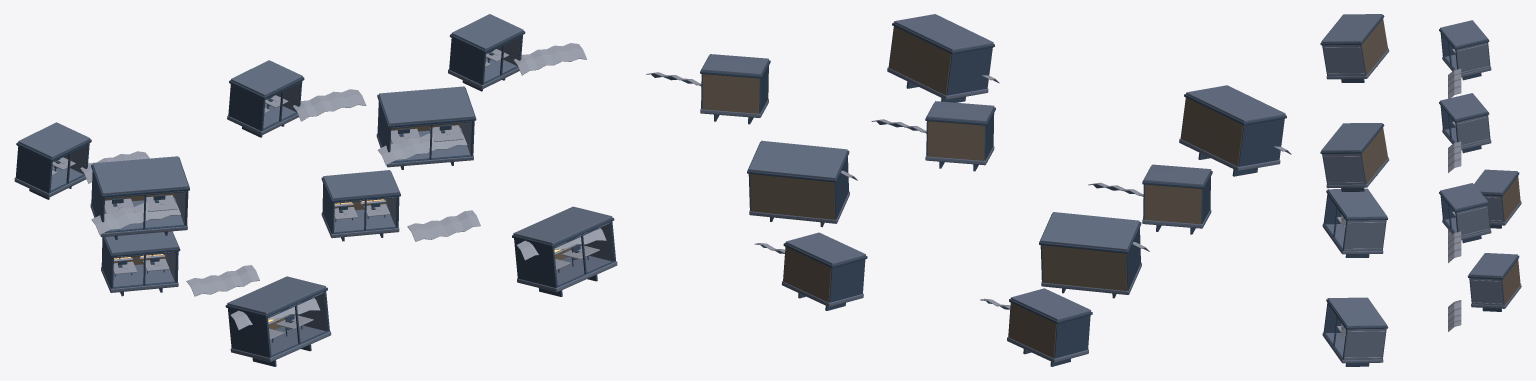
File: akari_realm.glb
The picture shows the model from 3 angles, left to right: view 1: azimuth 30°, elevation 25°; view 2: azimuth 150°, elevation 25°; view 3: azimuth 270°, elevation 25°; orthographic projection. The views are drawn at different scales.
Visible parts, largest first — view 1: Roof slab.005, Roof slab.007, Roof slab.008, Roof slab.006, Roof slab.003, Roof slab.002, Roof slab, Roof slab.004, Corner pilaster.012, Corner pilaster.016, Floating foundation.008, Floating foundation.006 (+21 smaller); view 2: Back wall.008, Back wall.006, Roof slab.006, Roof slab.008, Back wall.005, Back wall.007, Back wall, Back wall.004, Back wall.002, Roof slab.005, Roof slab.007, Corner pilaster.010 (+12 smaller); view 3: Roof slab.008, Side wall.006, Side wall.008, Side wall.007, Side wall.005, Roof slab.005, Roof slab.007, Roof slab.006, Side wall.003, Back wall.005, Back wall.007, Roof slab.003 (+28 smaller).
Part boxes in pixels (x1,y1,x2,y2): Roof slab.005: [92, 156, 188, 194]; Roof slab.007: [379, 86, 474, 124]; Roof slab.008: [513, 206, 612, 244]; Roof slab.006: [227, 276, 325, 314]; Roof slab.003: [323, 170, 399, 199]; Roof slab.002: [231, 60, 302, 96]; Roof slab: [18, 122, 90, 158]; Roof slab.004: [451, 14, 523, 50]; Corner pilaster.012: [228, 308, 271, 357]; Corner pilaster.016: [514, 238, 557, 287]; Floating foundation.008: [517, 255, 617, 292]; Floating foundation.006: [230, 325, 331, 362]; Back wall.008: [749, 174, 835, 219]; Back wall.006: [1041, 245, 1127, 290]; Roof slab.006: [1040, 212, 1139, 250]; Roof slab.008: [748, 140, 847, 179]; Back wall.005: [1181, 98, 1243, 166]; Back wall.007: [889, 26, 951, 95]; Back wall: [1144, 184, 1201, 224]; Back wall.004: [702, 74, 759, 113]; Back wall.002: [927, 121, 984, 160]; Roof slab.005: [1186, 85, 1285, 122]; Roof slab.007: [894, 14, 993, 51]; Corner pilaster.010: [1238, 118, 1284, 166]; Roof slab.008: [1327, 297, 1387, 326]; Side wall.006: [1344, 220, 1385, 251]; Side wall.008: [1344, 328, 1385, 360]; Side wall.007: [1322, 153, 1365, 184]; Side wall.005: [1322, 45, 1365, 76]; Roof slab.005: [1321, 14, 1382, 42]; Roof slab.007: [1321, 123, 1382, 151]; Roof slab.006: [1327, 188, 1387, 217]; Side wall.003: [1470, 278, 1503, 305]; Back wall.005: [1361, 18, 1387, 75]; Back wall.007: [1361, 127, 1387, 183]; Roof slab.003: [1468, 253, 1517, 277].
Size of the model in its own units: 67.99 by 25.87 by 27.33.
